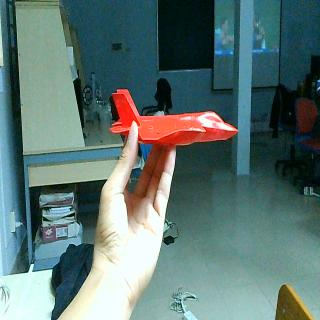Jet: (109, 87, 239, 146)
